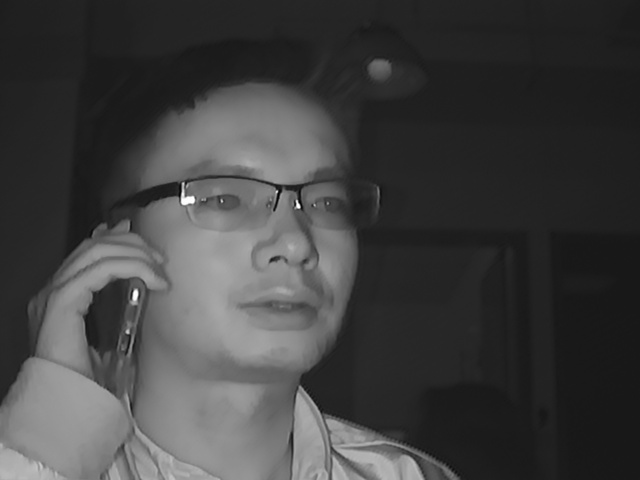hand: (41, 228, 165, 388)
